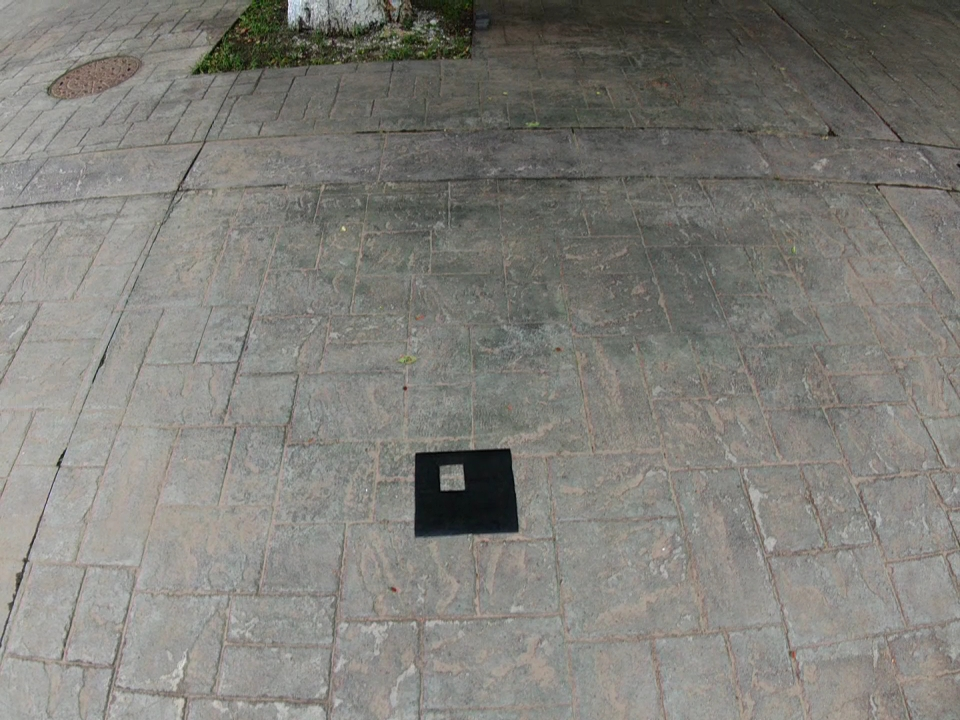qrcode: (414, 449, 518, 536)
